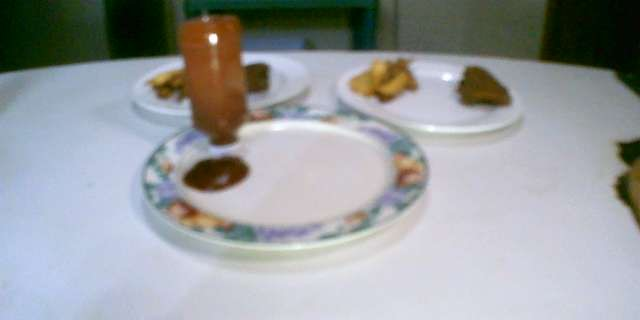chicken: (450, 57, 530, 113), (243, 55, 272, 97)
ketchup_bottle: (171, 11, 253, 158)
ketchup_portion: (182, 148, 252, 194)
potatoe_fries: (347, 51, 426, 108), (140, 58, 187, 106)
